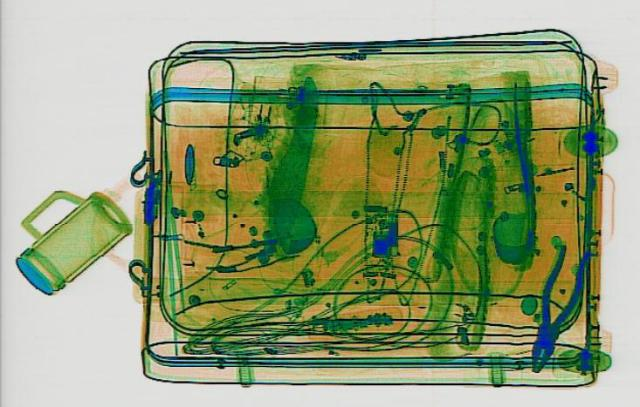Pliers: (514, 243, 594, 373)
